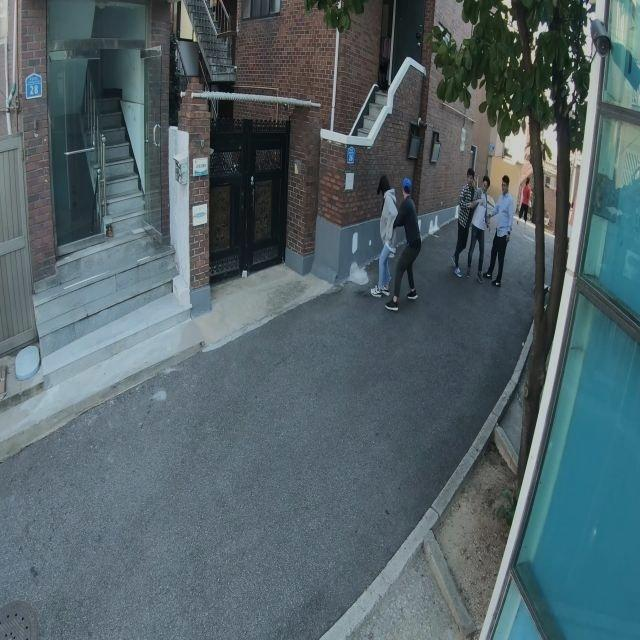fight: (375, 176, 423, 311)
non-fight: (487, 174, 514, 287), (452, 169, 476, 277)
